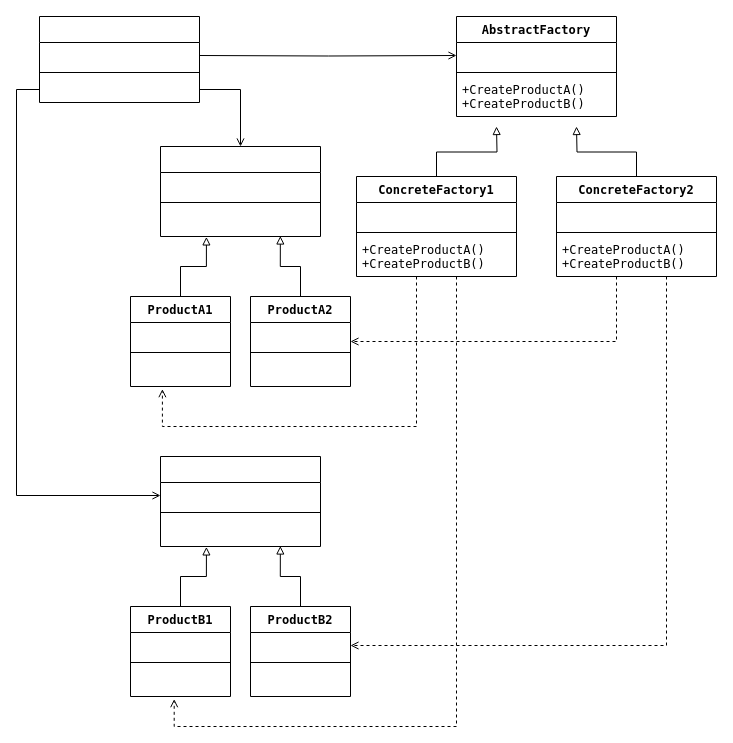
The diagram is 733 pixels wide and 743 high, and some of its shapes have lost their labels. The shapes that lost their labels are listed below. From the top down, each one's centre as x and y in pixels, then its label:
At (119,59): "Classname".
At (240,191): "AbstractProductA".
At (240,501): "AbstractProductB".
